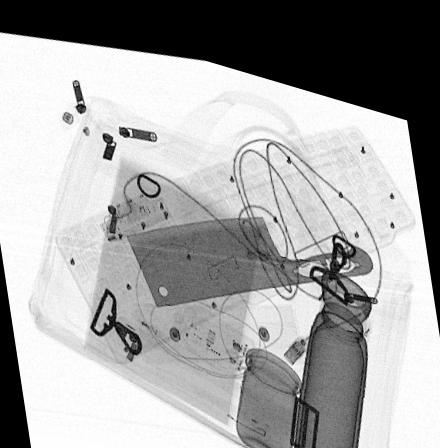Knife: (125, 198, 376, 300)
